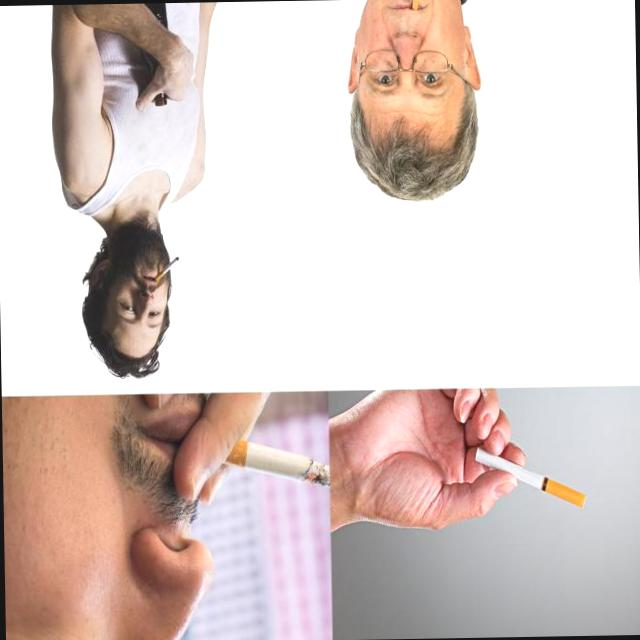smoke: (206, 424, 330, 506), (474, 444, 588, 512), (153, 256, 180, 280), (407, 0, 422, 15)
